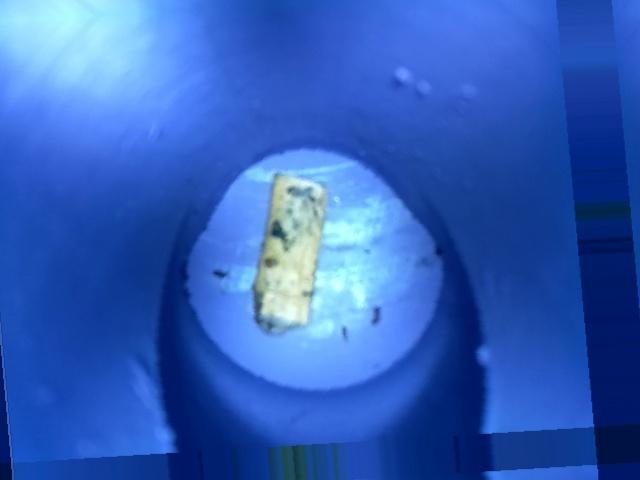megot: (232, 165, 351, 340)
